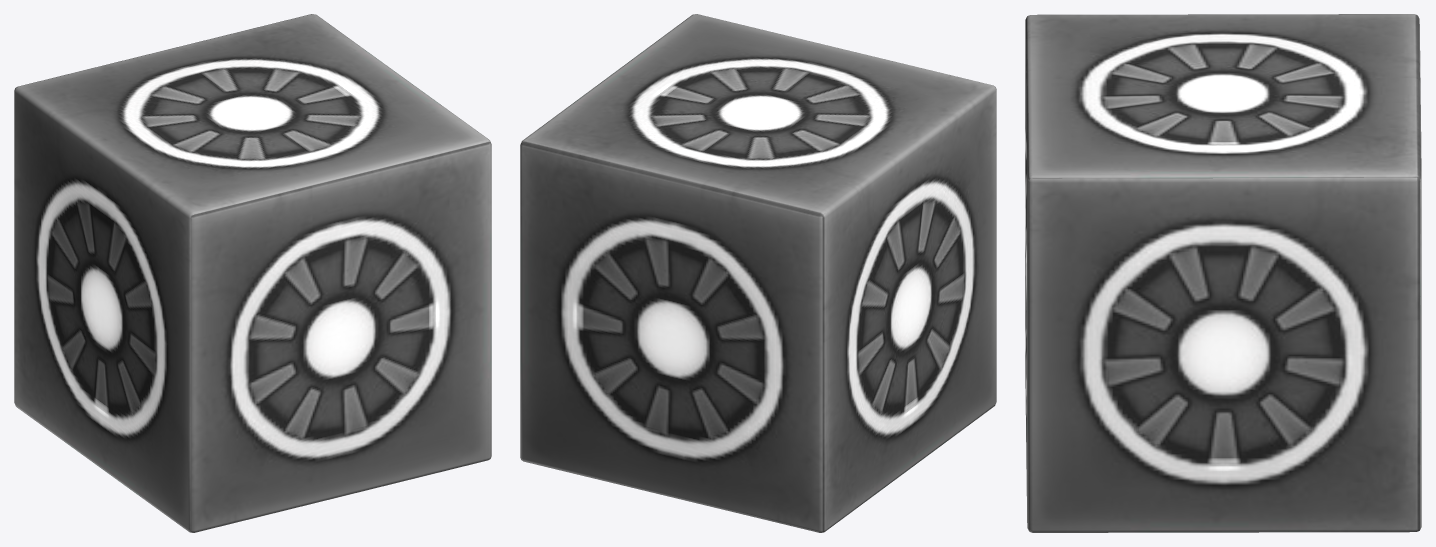
File: ARC1110014.fbx
3 renders of one model, left to right at view 1: azimuth 30°, elevation 25°; view 2: azimuth 150°, elevation 25°; view 3: azimuth 270°, elevation 25°, orthographic. The views are drawn at different scales.
Parts seen in each view (by area): view 1: smARC1110014; view 2: smARC1110014; view 3: smARC1110014.
Boxes of the visible parts, x1,y1,x2,y2 form: smARC1110014: (14, 14, 491, 532); smARC1110014: (520, 14, 996, 532); smARC1110014: (1025, 14, 1421, 532).
Size of the model in its own units: 114 by 115 by 115.
1 material, 1 textured.
